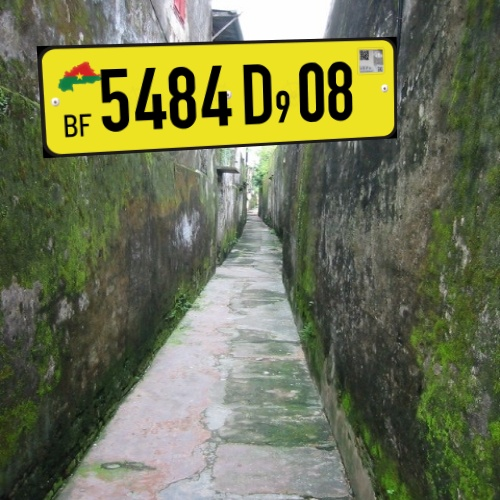plate: (15, 28, 406, 161)
